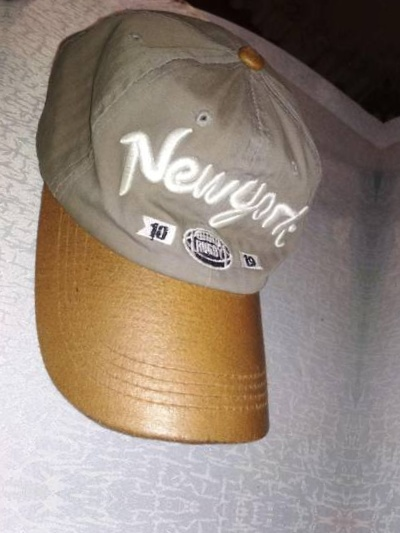Hat: (0, 0, 358, 490), (383, 32, 400, 529), (0, 516, 306, 533), (41, 0, 400, 5)
